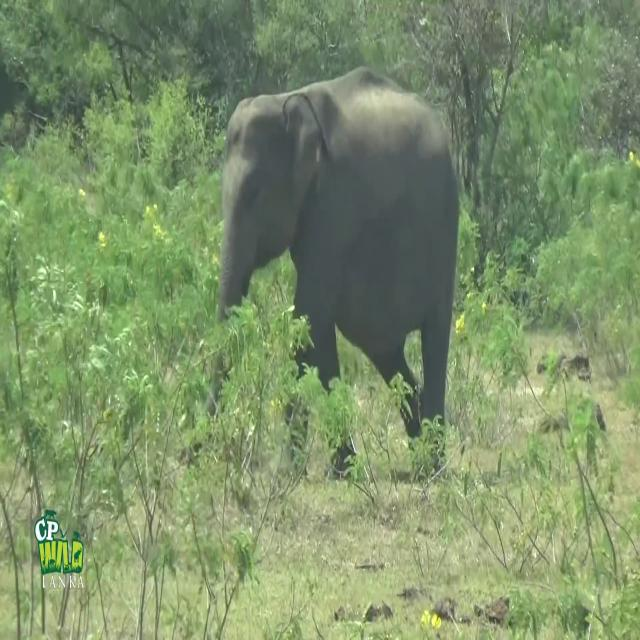Elephant: (206, 64, 460, 481)
